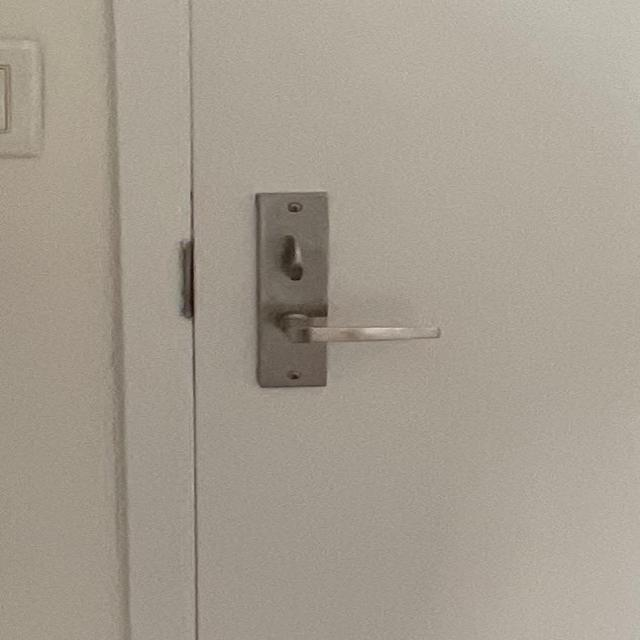doorhandle: (177, 296, 461, 389)
